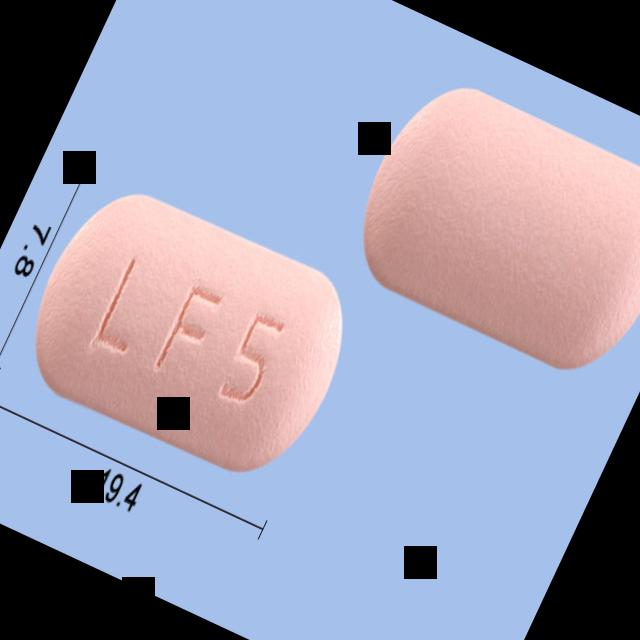Uropenta Tab: (9, 169, 374, 496)
